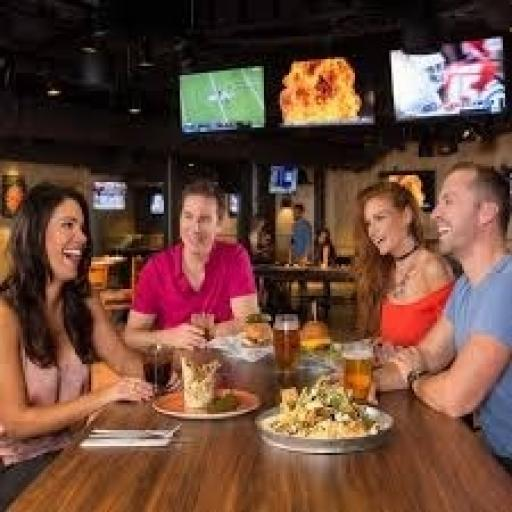eating: (0, 178, 155, 510), (364, 157, 510, 507), (121, 177, 264, 355)
